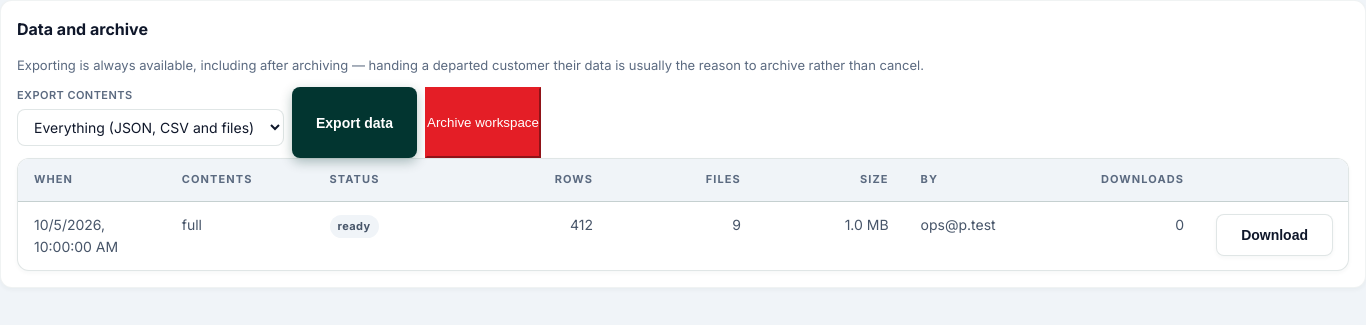
export › tells the operator the checksum to verify a handed-over file against
Click the button "Download" at [1275, 235], box [1216,214,1333,256]
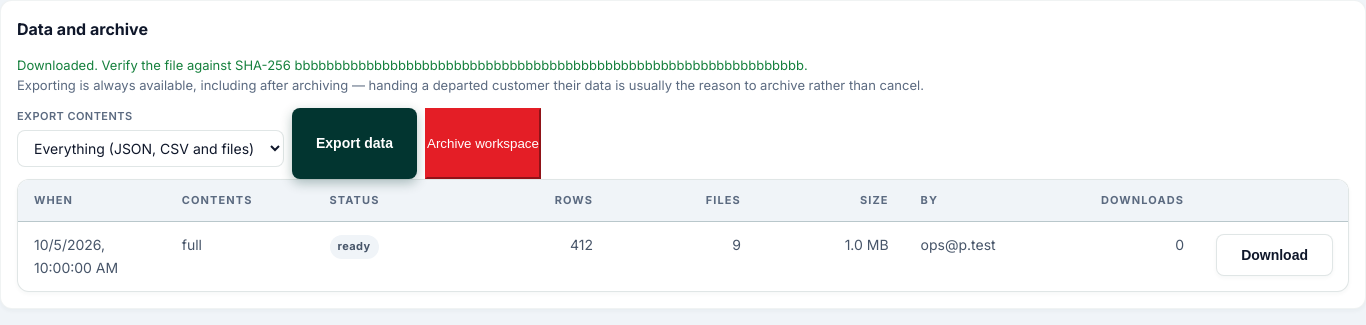
expect the text "Verify the file against SHA-256 bbb" is shown: met, box [17,57,808,73]
